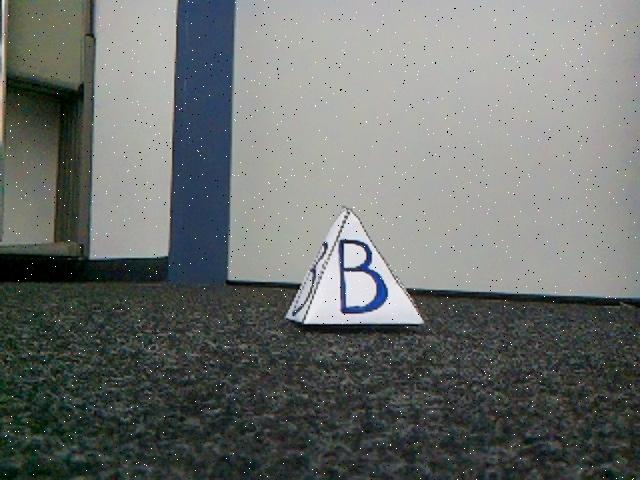B: (287, 207, 424, 332)
